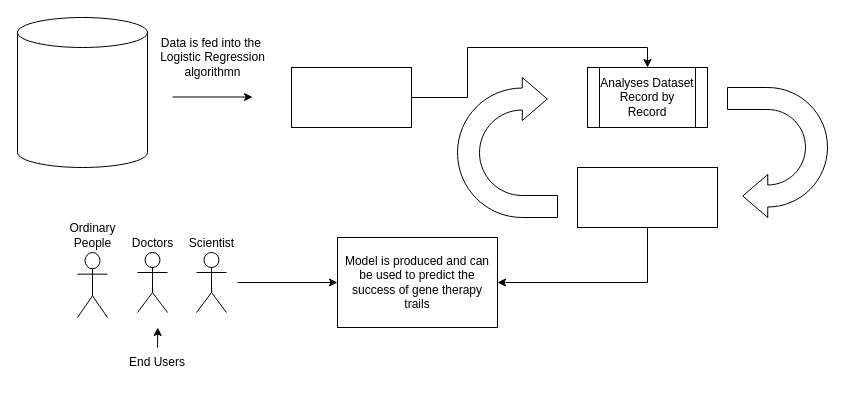
The diagram is 845 pixels wide and 395 high, and some of its shapes have lost their labels. The box of each missing label's shape, as (x1, y1, x2, y2) in pixels:
Dataset on historical gene therapy clinical trials from Nature Research: (16, 16, 148, 168)
Learns Patterns in the Data: (576, 166, 718, 228)
Logistic Regression Algorithm: (290, 66, 412, 128)
